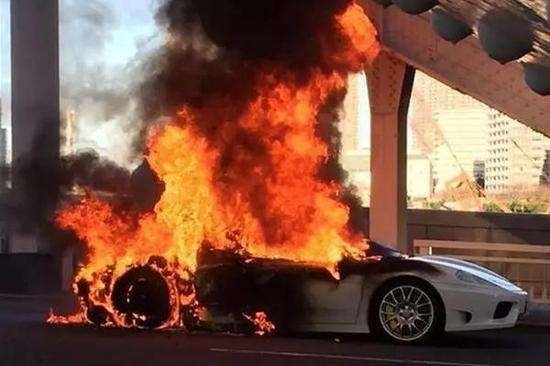fire: (48, 49, 379, 339)
